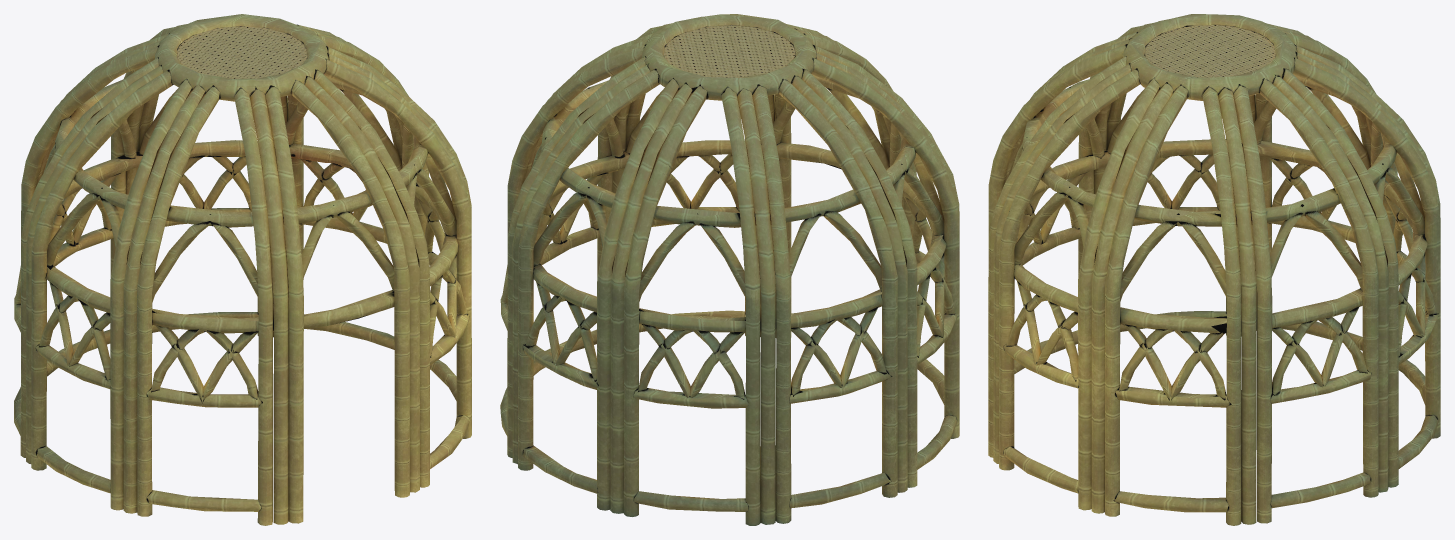
Rendered from BambooFrame_LOD3.glb.
3 views of the same model, side by side, from view 1: azimuth 30°, elevation 25°; view 2: azimuth 150°, elevation 25°; view 3: azimuth 270°, elevation 25° (orthographic).
Visible parts, largest first — view 1: Bamboo Frame_PROCESSED.001_LOD3; view 2: Bamboo Frame_PROCESSED.001_LOD3; view 3: Bamboo Frame_PROCESSED.001_LOD3.
Boxes of the visible parts, x1,y1,x2,y2 form: Bamboo Frame_PROCESSED.001_LOD3: (14,14,471,525); Bamboo Frame_PROCESSED.001_LOD3: (500,14,959,525); Bamboo Frame_PROCESSED.001_LOD3: (988,14,1440,525).
Bounding box in the file's own units: 23.73 × 21.82 × 23.38.
Materials: 2 (2 with a texture image).
